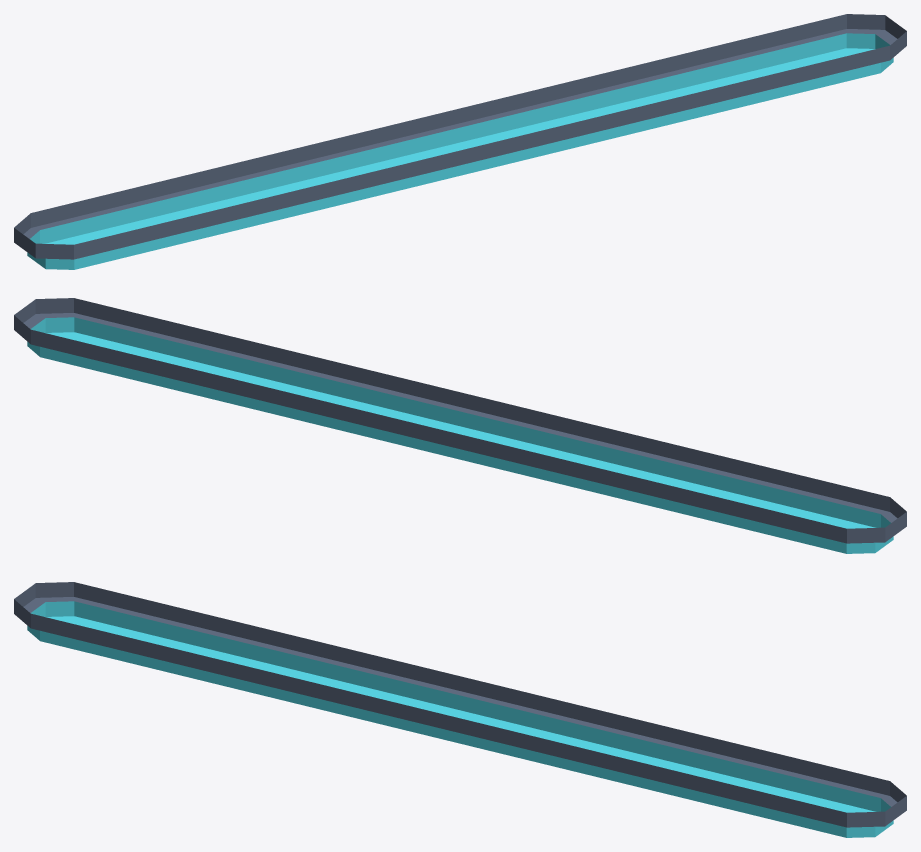
The model's file is Light.glb.
The picture shows the model from 3 angles, top to bottom: view 1: azimuth 30°, elevation 25°; view 2: azimuth 150°, elevation 25°; view 3: azimuth 330°, elevation 25°; orthographic projection.
Parts seen in each view (by area): view 1: Cube.050; view 2: Cube.050; view 3: Cube.050.
Part boxes in pixels (x1,y1,x2,y2): Cube.050: [14, 14, 906, 269]; Cube.050: [14, 298, 906, 553]; Cube.050: [14, 582, 906, 837].
Size of the model in its own units: 1.99 by 0.0648 by 0.1705.
Materials: 1 (1 with a texture image).
